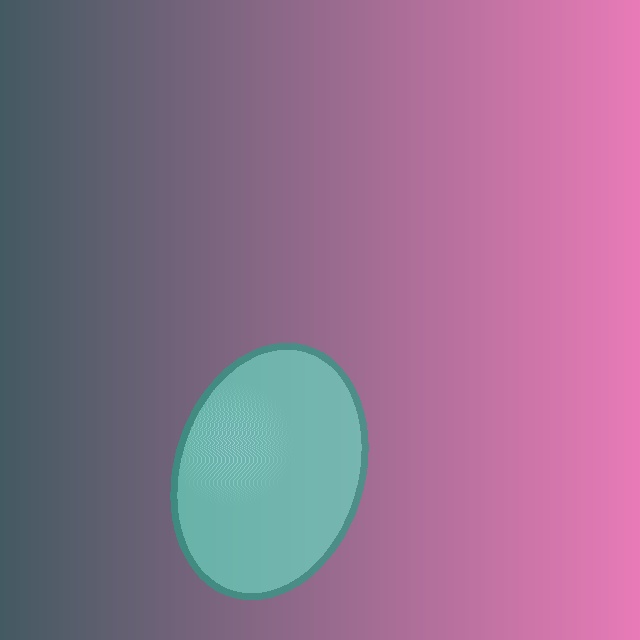lens: (174, 346, 364, 596)
